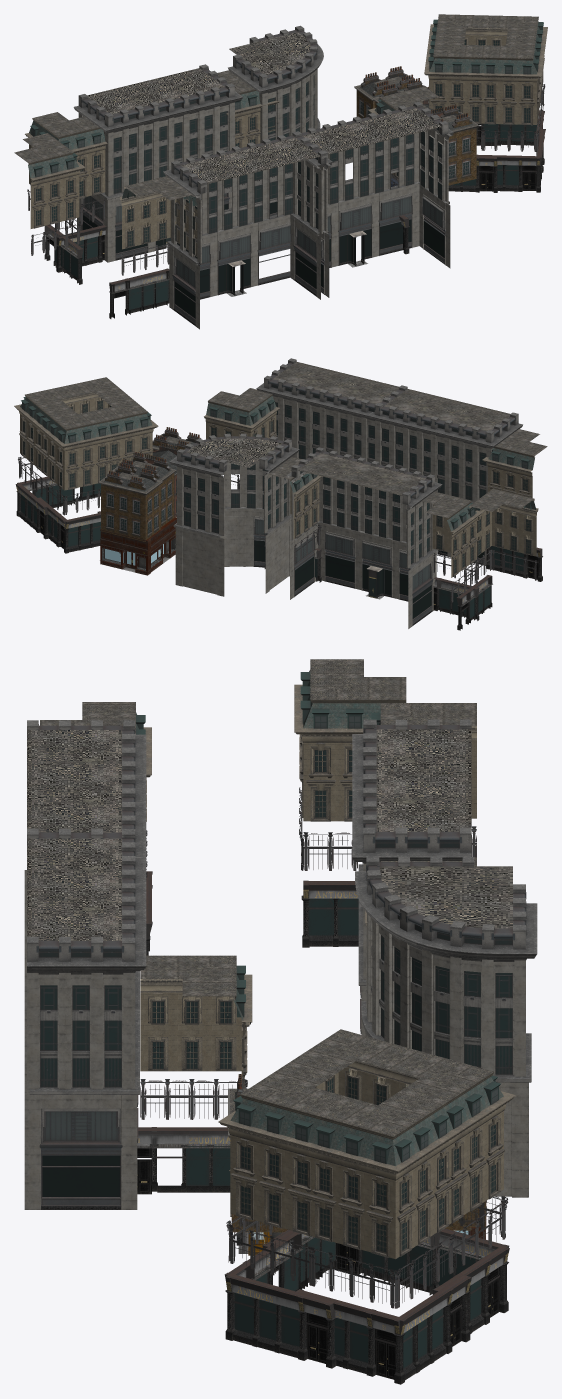
Rendered from Location2_1_o.fbx.
3 renders of one model, top to bottom at view 1: azimuth 30°, elevation 25°; view 2: azimuth 150°, elevation 25°; view 3: azimuth 270°, elevation 25°, orthographic. The views are drawn at different scales.
Visible parts, largest first — view 1: sm0011_buildingnew01_01.meshout.002, sm0011_buildingnew01_01.meshout, sm0007_buildingold01_03.meshout.005, sm0011_buildingnew01_01.meshout.001, sm0011_buildingnew01_03.meshout, sm0007_buildingold01_03.meshout.004, sm0007_buildingold01_03.meshout.001, sm0007_buildingold01_03.meshout.002, sm0013_buildingbrick01.meshout.003, sm0007_buildingold01_03.meshout.003, sm0013_buildingbrick01.meshout.002, sm0007_buildingold01_03.meshout.012; view 2: sm0011_buildingnew01_01.meshout.001, sm0011_buildingnew01_03.meshout, sm0007_buildingold01_03.meshout.005, sm0011_buildingnew01_01.meshout, sm0011_buildingnew01_01.meshout.002, sm0007_buildingold01_03.meshout.001, sm0007_buildingold01_03.meshout.002, sm0013_buildingbrick01.meshout.002, sm0007_buildingold01_03.meshout.004, sm0007_buildingold01_03.meshout.012, sm0007_buildingold01_03.meshout.003, sm0038_storewood01.meshout (+4 smaller); view 3: sm0007_buildingold01_03.meshout.005, sm0011_buildingnew01_01.meshout.002, sm0011_buildingnew01_03.meshout, sm0007_buildingold01_03.meshout.012, sm0011_buildingnew01_01.meshout.001, sm0007_buildingold01_03.meshout.001, sm0011_buildingnew01_01.meshout, sm0007_buildingold01_03.meshout.002, sm0007_buildingold01_03.meshout.004, sm0013_buildingbrick01.meshout.003.
Boxes of the visible parts, box(x1,y1,x2,y2) form: sm0011_buildingnew01_01.meshout.002: box(289, 101, 453, 299); sm0011_buildingnew01_01.meshout: box(163, 131, 332, 329); sm0007_buildingold01_03.meshout.005: box(424, 14, 547, 192); sm0011_buildingnew01_01.meshout.001: box(73, 64, 243, 262); sm0011_buildingnew01_03.meshout: box(228, 25, 323, 216); sm0007_buildingold01_03.meshout.004: box(109, 176, 202, 318); sm0007_buildingold01_03.meshout.001: box(14, 133, 85, 284); sm0007_buildingold01_03.meshout.002: box(25, 112, 107, 272); sm0013_buildingbrick01.meshout.003: box(431, 104, 479, 185); sm0007_buildingold01_03.meshout.003: box(217, 70, 279, 147); sm0013_buildingbrick01.meshout.002: box(354, 66, 415, 118); sm0007_buildingold01_03.meshout.012: box(368, 86, 439, 254); sm0011_buildingnew01_01.meshout.001: box(287, 447, 442, 628); sm0011_buildingnew01_03.meshout: box(169, 433, 299, 596); sm0007_buildingold01_03.meshout.005: box(14, 377, 158, 553); sm0011_buildingnew01_01.meshout: box(368, 385, 522, 565); sm0011_buildingnew01_01.meshout.002: box(256, 358, 405, 464); sm0007_buildingold01_03.meshout.001: box(456, 488, 538, 630); sm0007_buildingold01_03.meshout.002: box(421, 491, 482, 620); sm0013_buildingbrick01.meshout.002: box(98, 463, 162, 541); sm0007_buildingold01_03.meshout.004: box(482, 429, 547, 581); sm0007_buildingold01_03.meshout.012: box(204, 388, 279, 489); sm0007_buildingold01_03.meshout.003: box(264, 457, 322, 582); sm0038_storewood01.meshout: box(100, 529, 150, 575); sm0007_buildingold01_03.meshout.005: box(218, 1029, 516, 1384); sm0011_buildingnew01_01.meshout.002: box(24, 829, 146, 1209); sm0011_buildingnew01_03.meshout: box(355, 857, 537, 1197); sm0007_buildingold01_03.meshout.012: box(137, 955, 252, 1245); sm0011_buildingnew01_01.meshout.001: box(352, 719, 471, 1035); sm0007_buildingold01_03.meshout.001: box(294, 659, 406, 947); sm0011_buildingnew01_01.meshout: box(24, 720, 146, 1093); sm0007_buildingold01_03.meshout.002: box(371, 703, 476, 856); sm0007_buildingold01_03.meshout.004: box(40, 702, 152, 955); sm0013_buildingbrick01.meshout.003: box(228, 1074, 287, 1232).
Size of the model in its own units: 9275 by 2521 by 4128.
